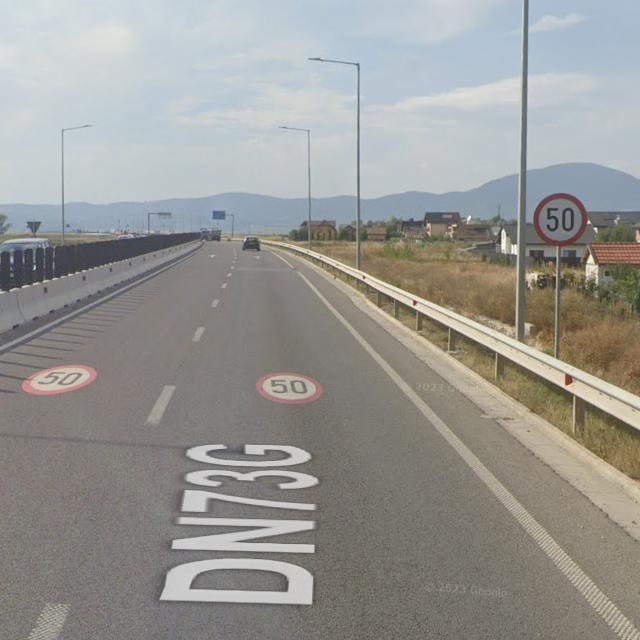forb_speed_over_50: (534, 192, 590, 245), (21, 365, 99, 397), (257, 369, 322, 407)
